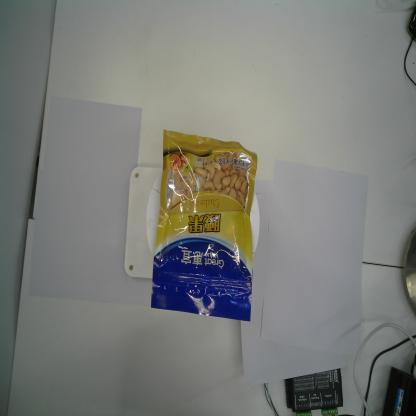Dried Fruit: (150, 129, 258, 322)
